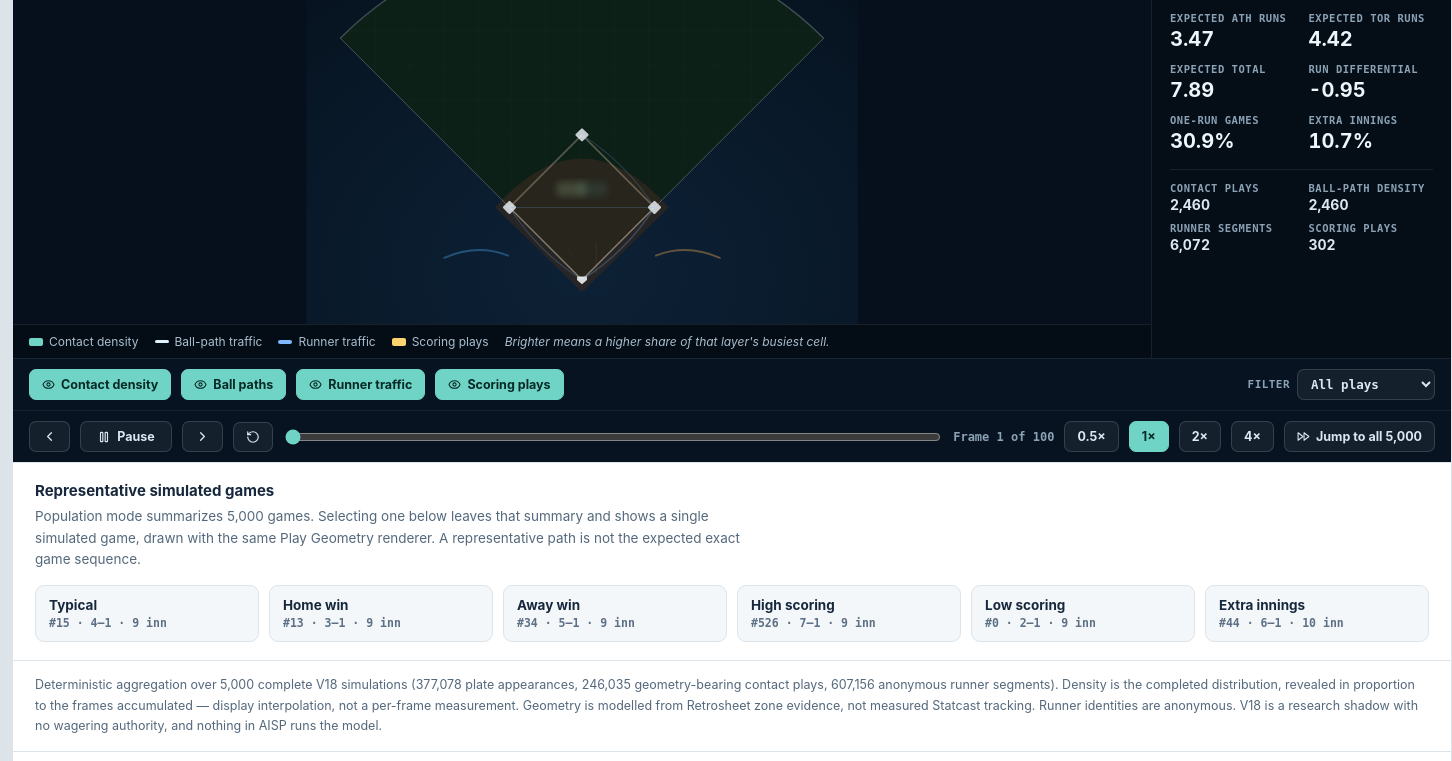
it: representative games › returns to the population without losing it
The image size is (1452, 761).
(page scrolled)
Click the button "Typical #15 · 4–1 · 9 inn": (147,614) [35,585,259,642]
(page scrolled)
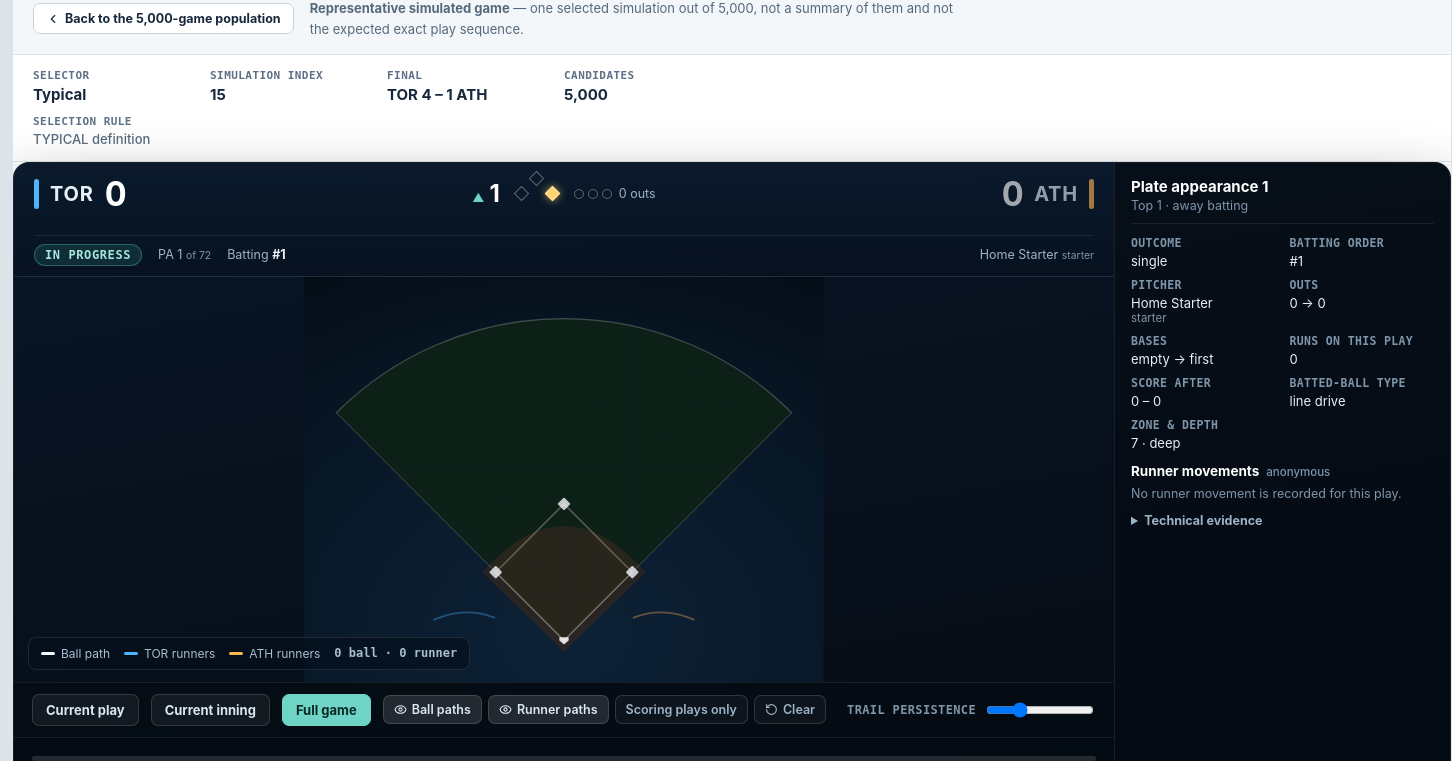
Click the button "Back to the 5,000-game population": (163,19) [33,3,294,34]
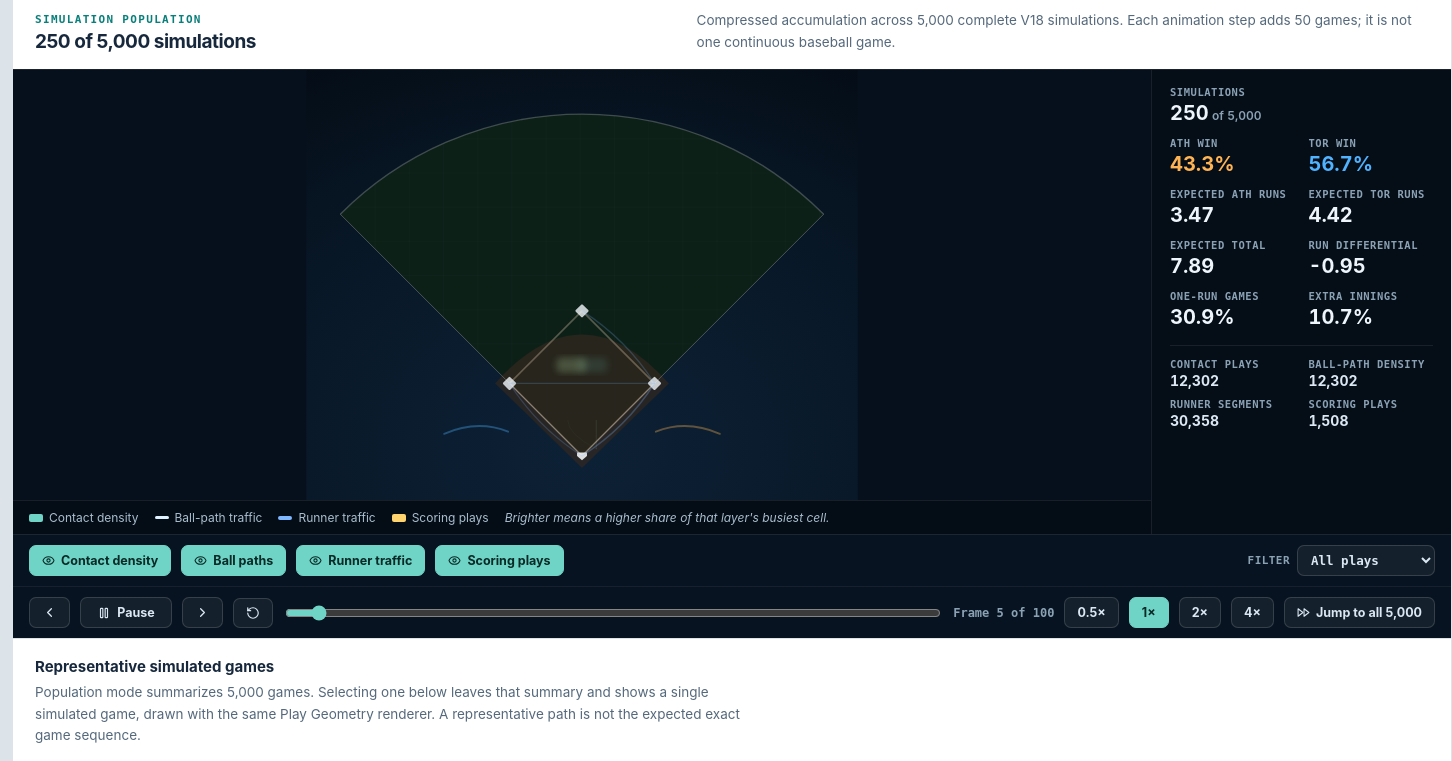
Expected: the heading "250 of 5,000 simulations" is shown, [35,30,256,53]
